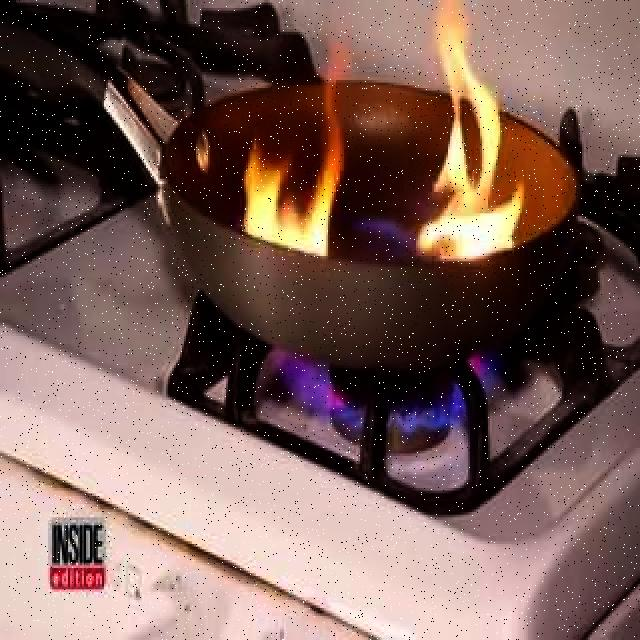fire: (424, 4, 521, 260), (282, 349, 494, 443), (249, 71, 336, 254)
